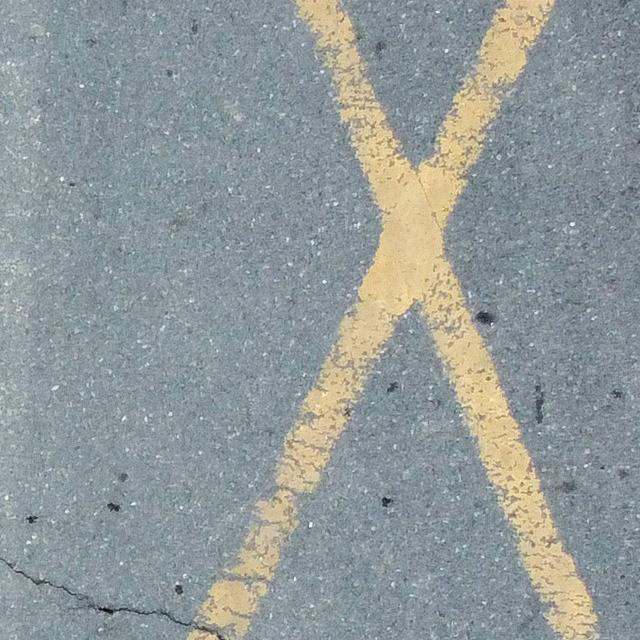TransverseCrack: (1, 555, 224, 640)
